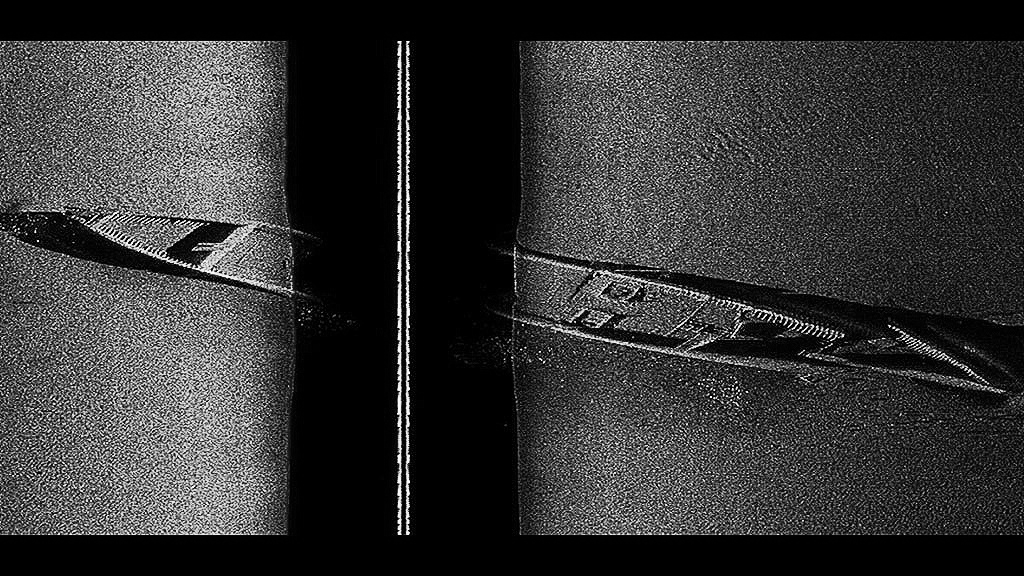ship: (55, 204, 1014, 403)
